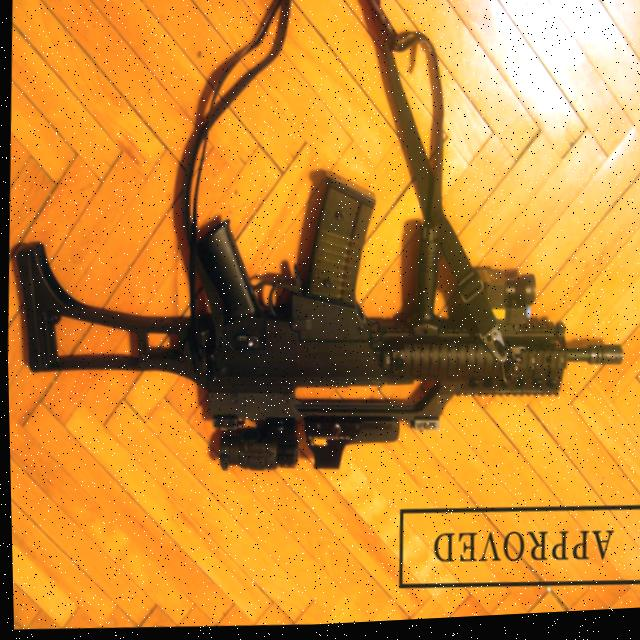firearm: (3, 153, 627, 497)
